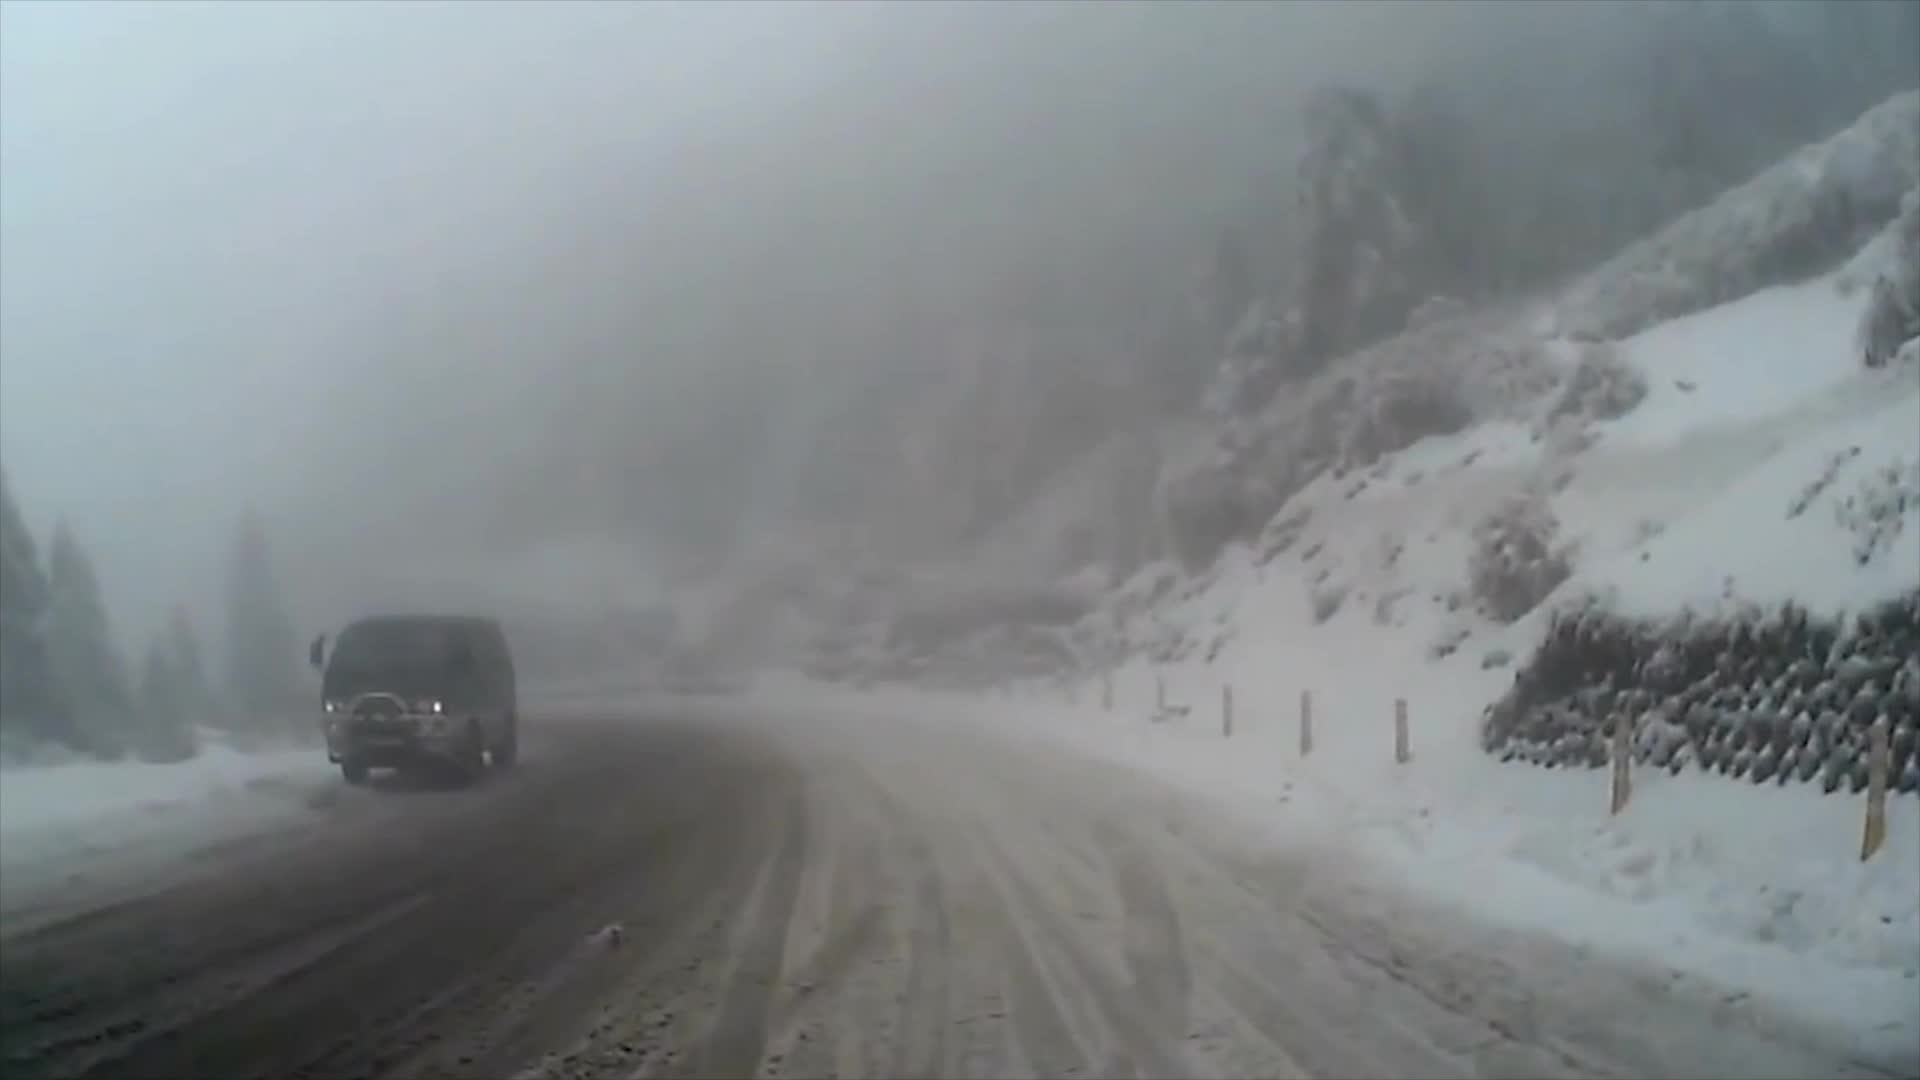vehicle: (309, 612, 524, 789)
